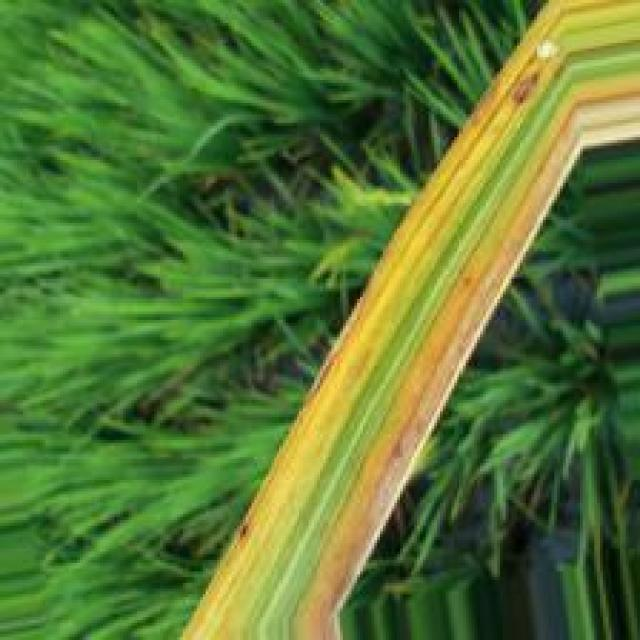Bacterial_Leaf_Blight: (181, 43, 551, 632), (292, 133, 591, 628)
